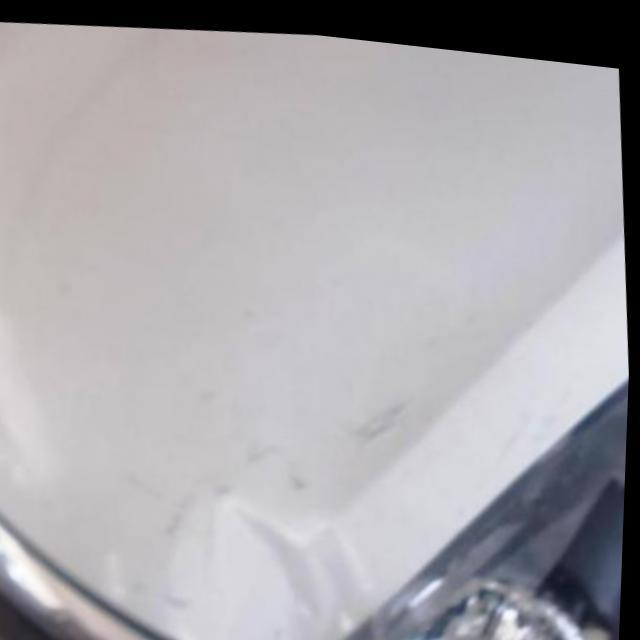dent: (206, 489, 377, 640)
lamp broken: (384, 413, 630, 640)
